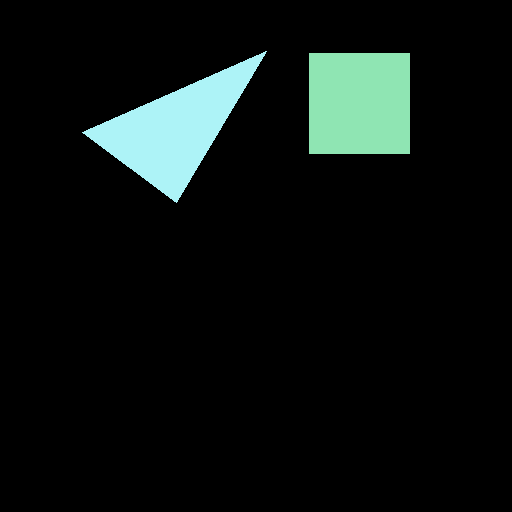square: (309, 53, 409, 153)
triangle: (82, 51, 266, 202)
